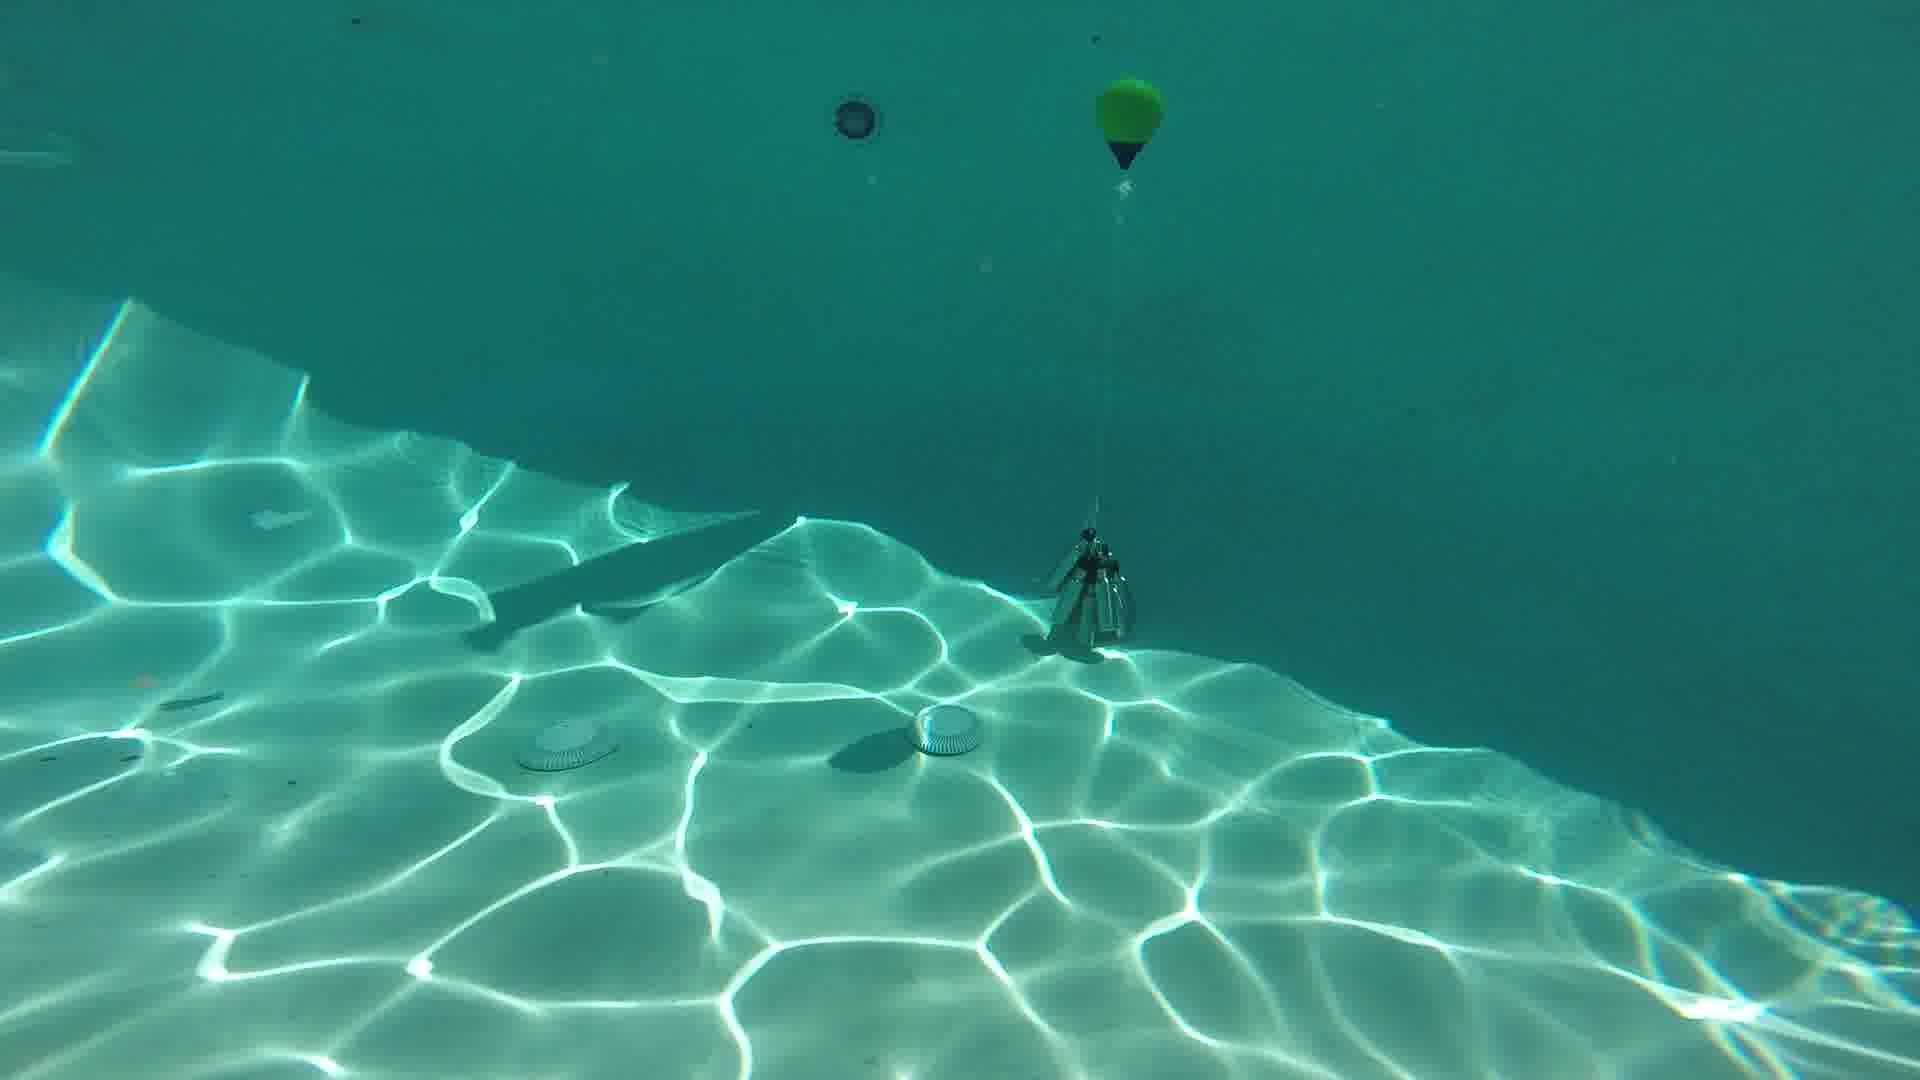yellow_buoy: (1095, 76, 1167, 202)
